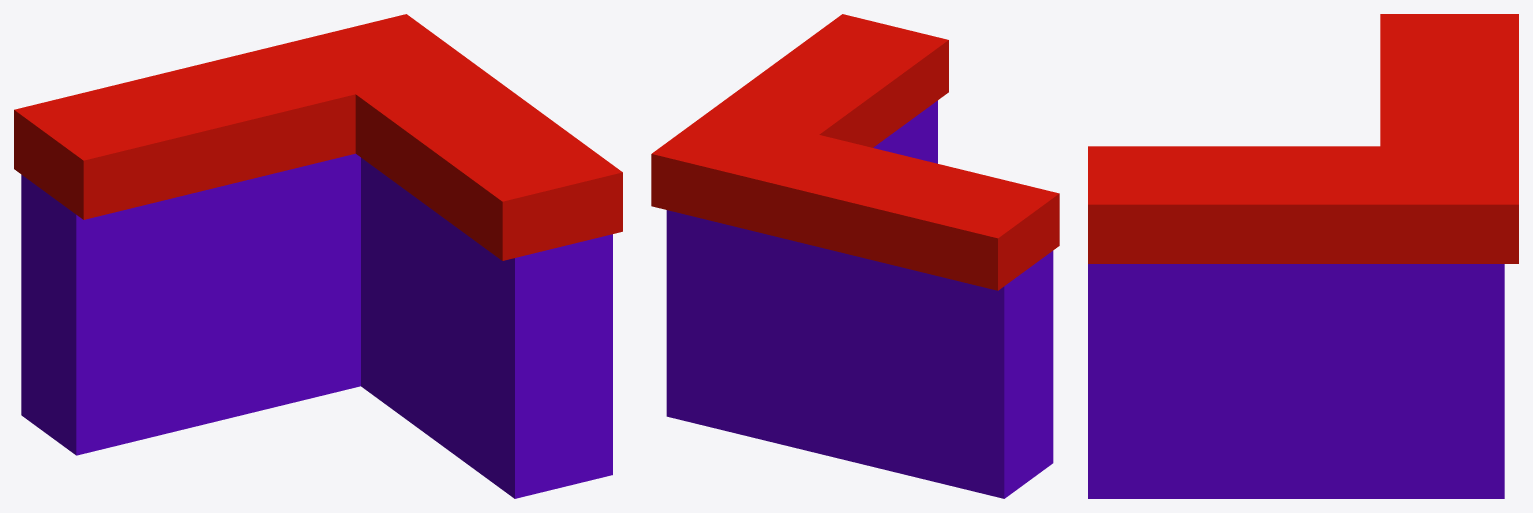
Rendered from Fence Corner.fbx.
The picture shows the model from 3 angles, left to right: view 1: azimuth 30°, elevation 25°; view 2: azimuth 150°, elevation 25°; view 3: azimuth 270°, elevation 25°; orthographic projection. The views are drawn at different scales.
Visible parts, largest first — view 1: Fence.Corner; view 2: Fence.Corner; view 3: Fence.Corner.
Boxes of the visible parts, <box> form: Fence.Corner: <box>14,14,622,498</box>; Fence.Corner: <box>651,14,1059,498</box>; Fence.Corner: <box>1088,14,1518,498</box>.
Bounding box in the file's own units: 205 × 150 × 196.
